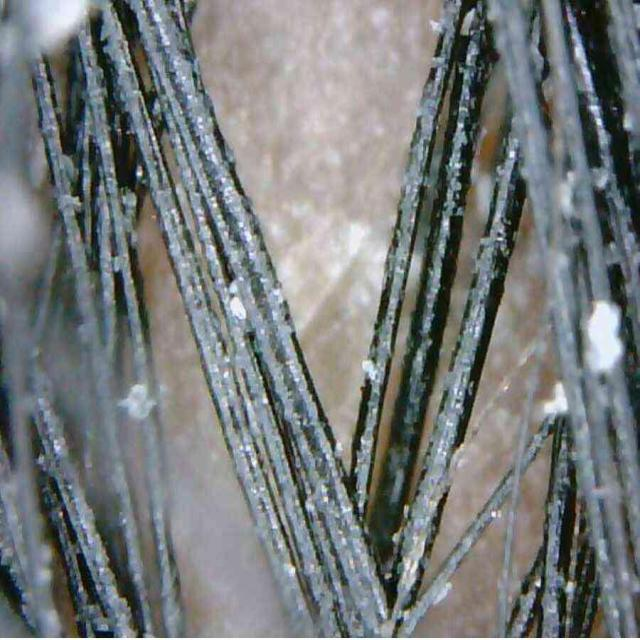d: (585, 301, 622, 370), (118, 384, 156, 420), (542, 382, 568, 417), (361, 358, 378, 380), (231, 296, 246, 320)
